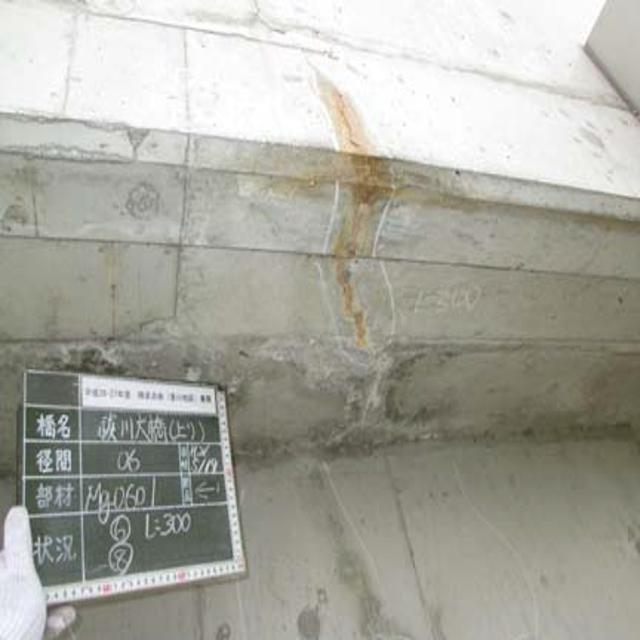freelime: (316, 82, 396, 374)
